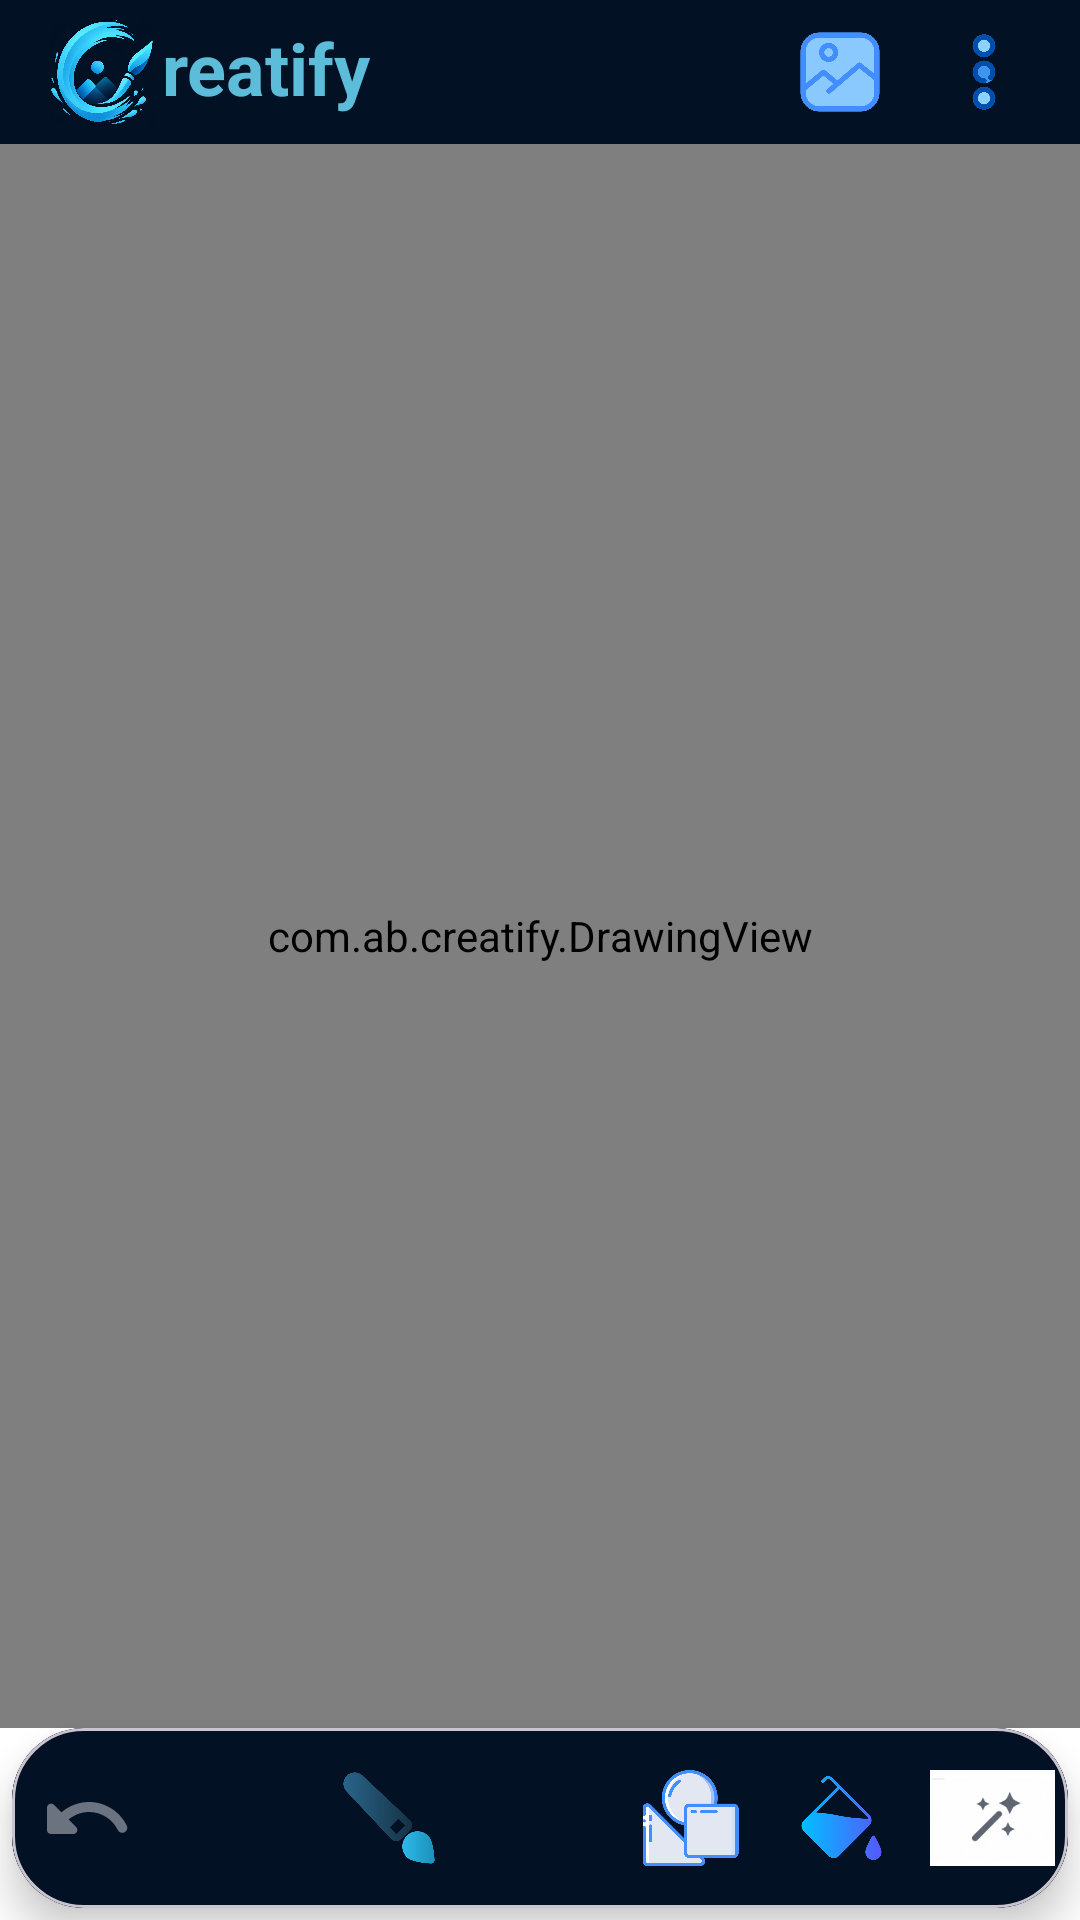

Screen size 1080×1920. Icon name, then its center in pixels as [x,y]:
Brush: [389,1818]
Fill: [841,1818]
Menu: [984,72]
Shapes: [691,1818]
Undo: [87,1818]
